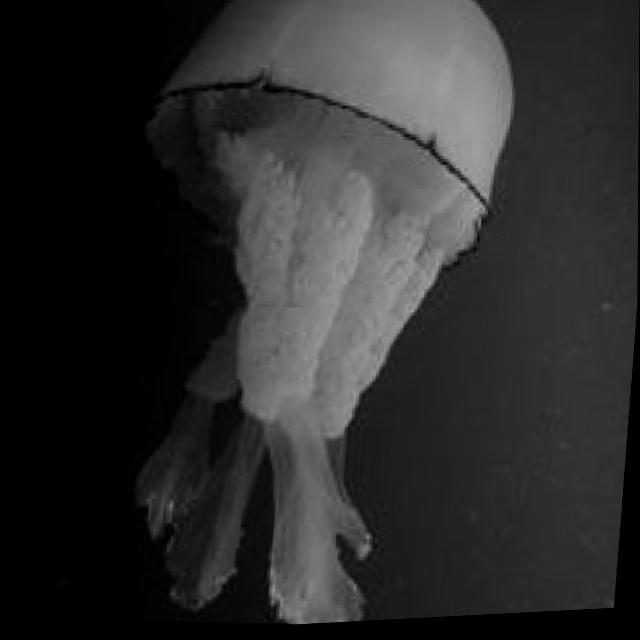Box-jellyfish: (101, 0, 529, 636)
